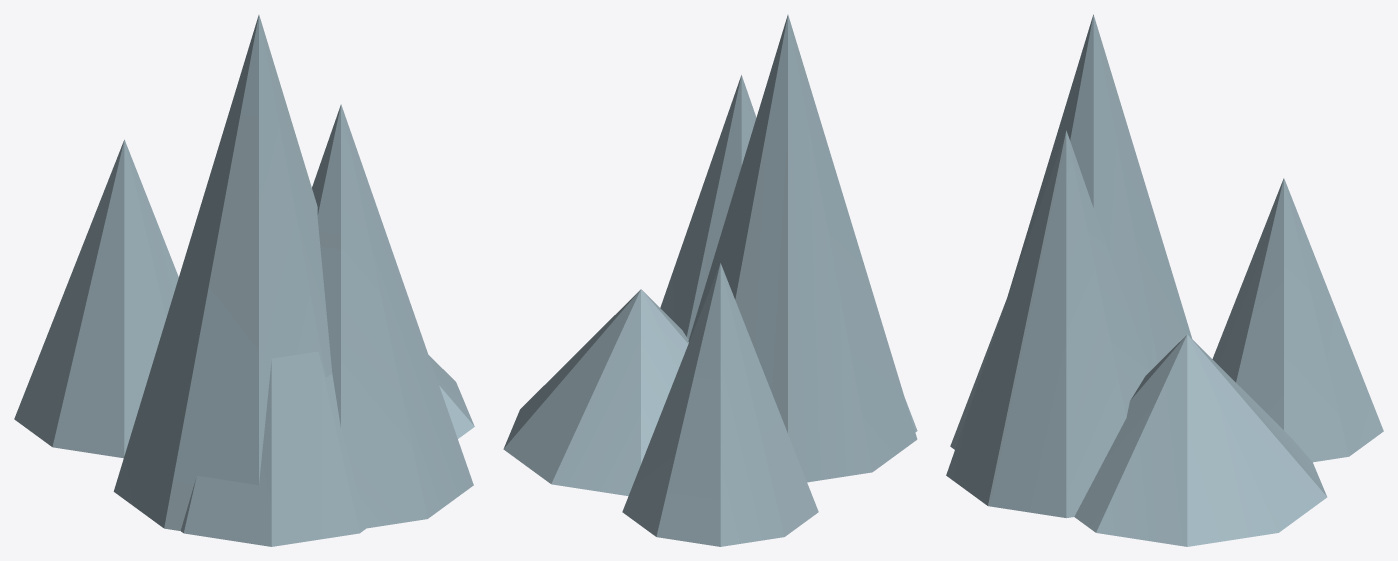
File: ice_spire-08.glb
3 renders of one model, left to right at view 1: azimuth 30°, elevation 25°; view 2: azimuth 150°, elevation 25°; view 3: azimuth 270°, elevation 25°, orthographic. The views are drawn at different scales.
Visible parts, largest first — view 1: world; view 2: world; view 3: world.
Boxes of the visible parts, x1,y1,x2,y2 form: world: (14, 15, 474, 546); world: (503, 14, 917, 546); world: (946, 14, 1383, 546).
Size of the model in its own units: 1.21 by 1.46 by 1.37.
